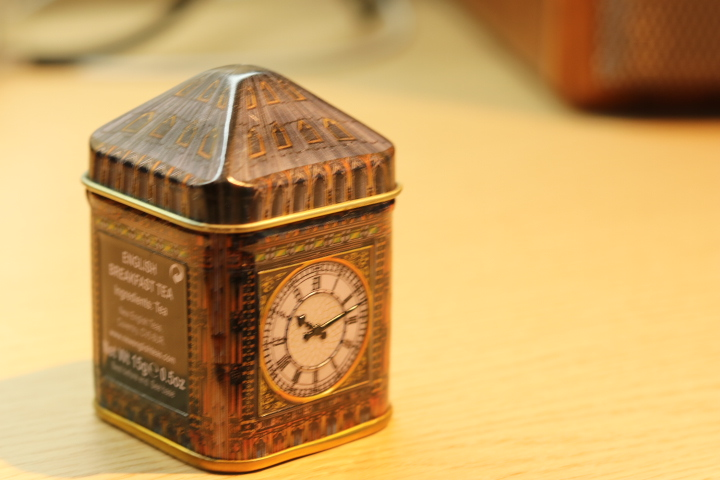Big Ben: (69, 56, 434, 480)
